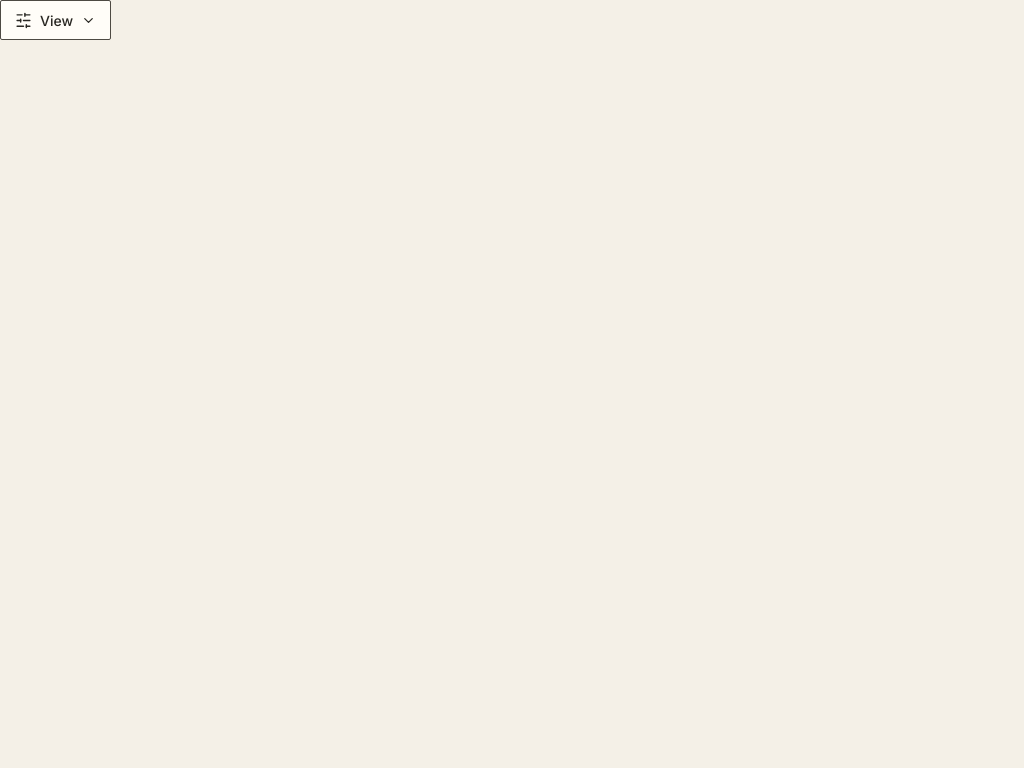
Scenario: closes the view popover on Escape
Click the button "View".
click(56, 20)  # box x1=0 y1=0 x2=111 y2=40
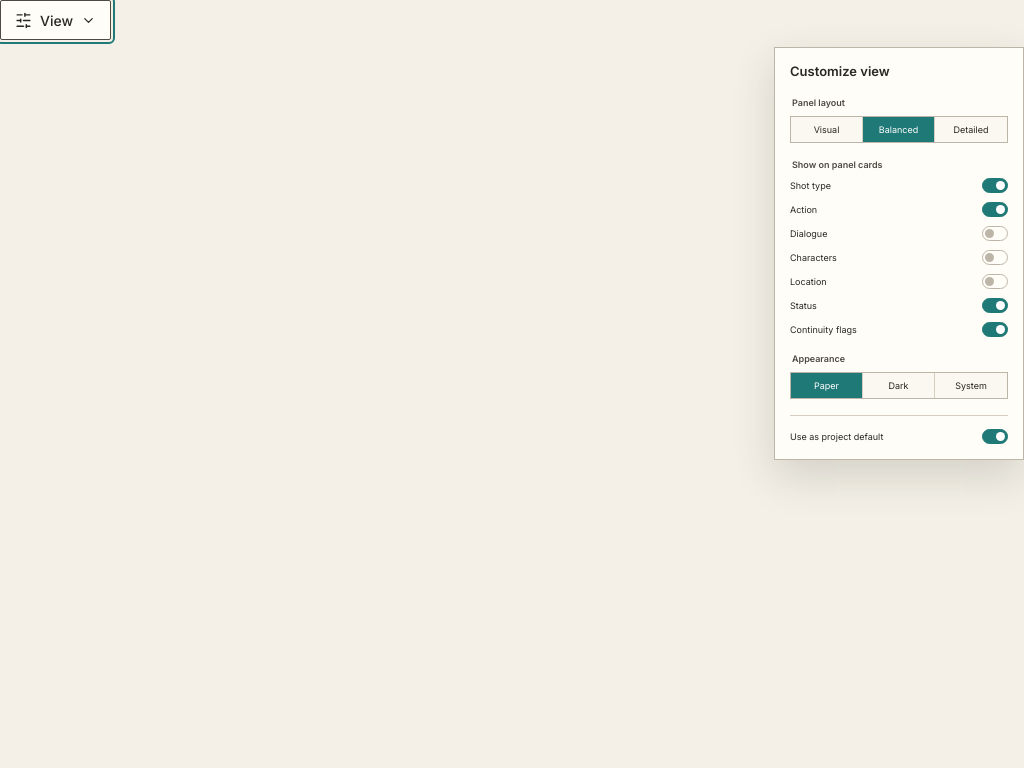
Now the dialog "Customize view" is shown, box x1=774 y1=47 x2=1023 y2=460
Press Escape
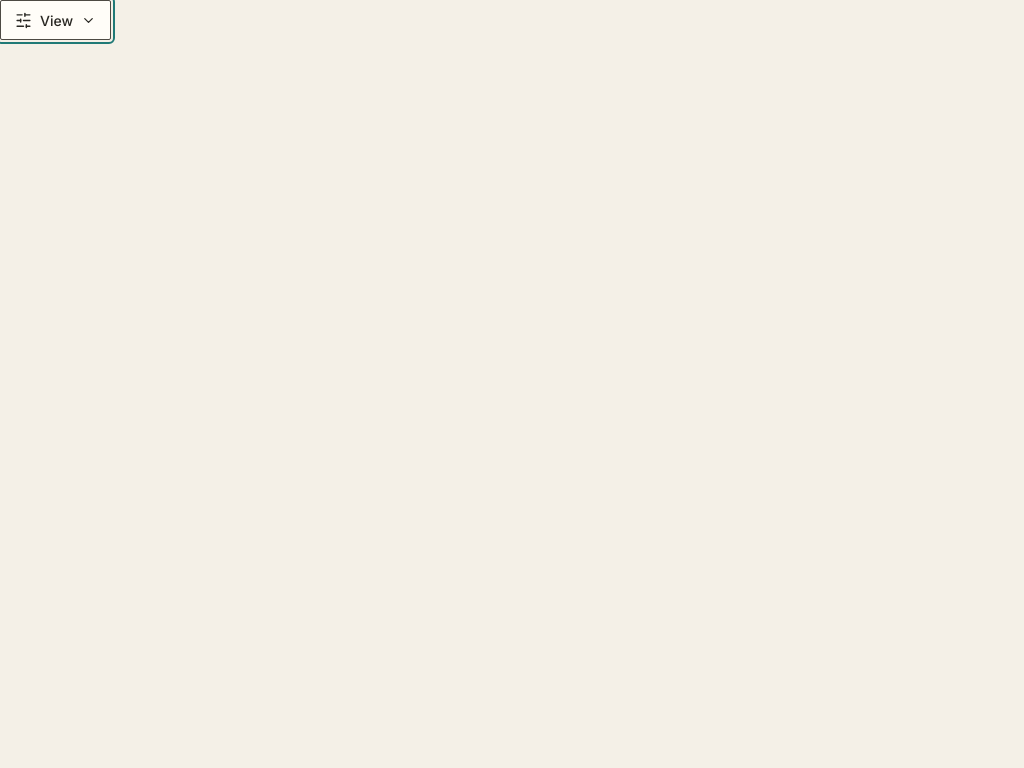
Now the heading "Customize view" is gone
